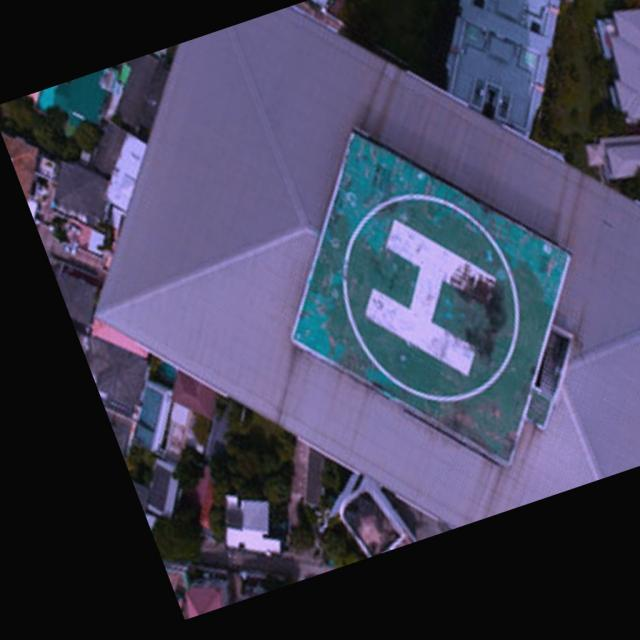helipad: (334, 186, 526, 411)
